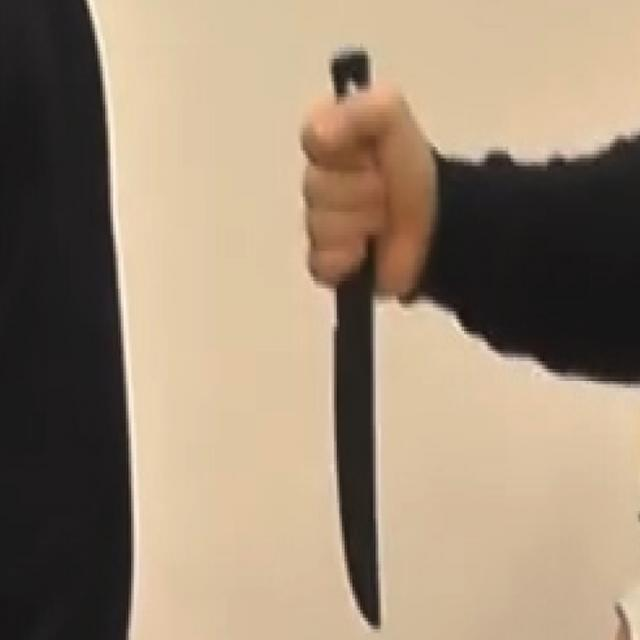suspicion: (296, 38, 638, 636), (332, 280, 388, 632), (328, 46, 378, 100)
